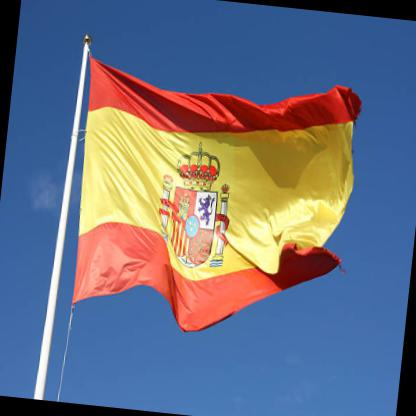es: (59, 53, 373, 353)
